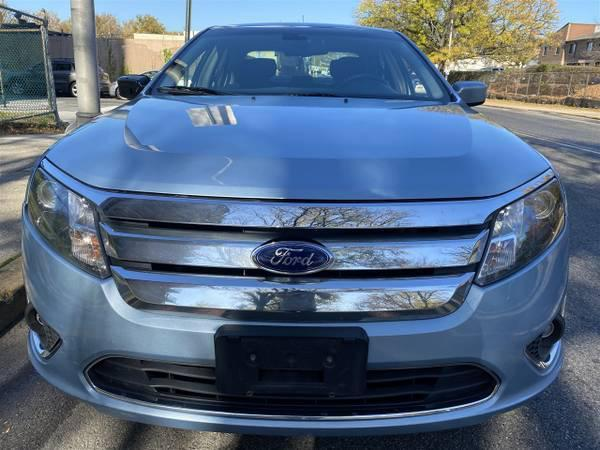Front_Bumper: (23, 206, 573, 422)
Front_Windshield: (144, 25, 457, 102)
Grille: (93, 184, 503, 312)
Hood: (43, 94, 552, 202)
Left_Headlight: (474, 169, 564, 281)
Left_Mirror: (454, 80, 489, 108)
Right_Headlight: (26, 154, 108, 270)
Right_Mirror: (116, 74, 148, 99)
